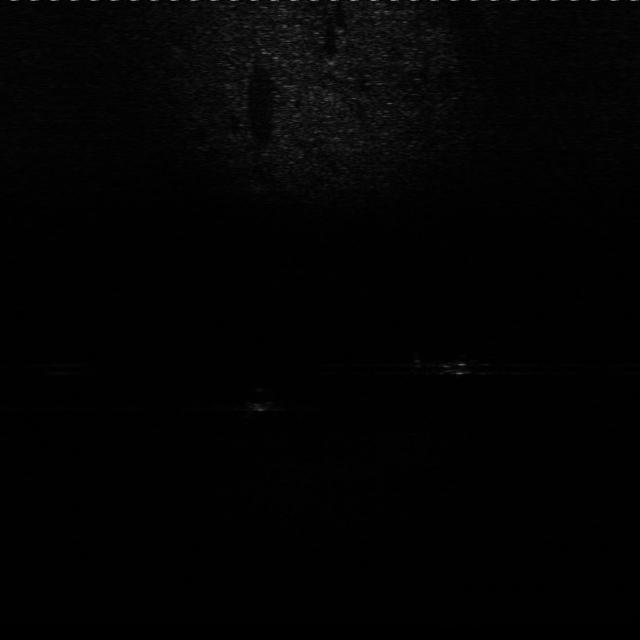ball: (243, 384, 278, 412)
human body: (409, 353, 503, 380)
